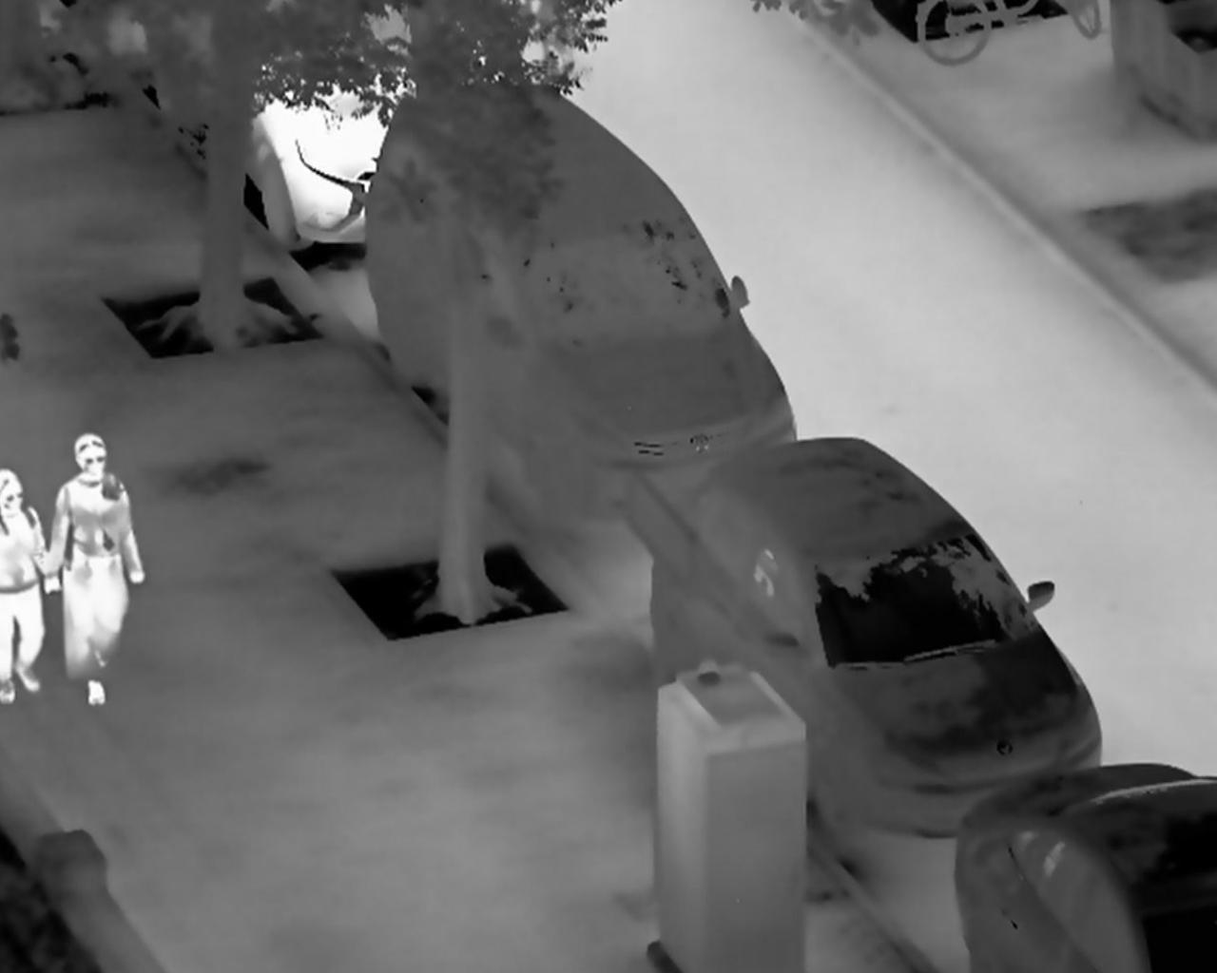person: (46, 432, 145, 707)
